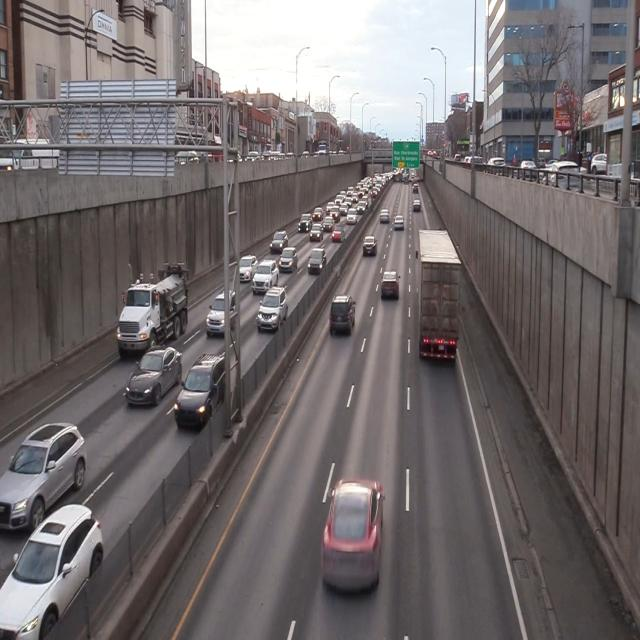Car: (0, 501, 105, 640), (0, 417, 92, 535), (320, 477, 392, 596), (413, 210, 463, 374), (117, 260, 194, 358), (174, 350, 231, 436), (125, 343, 182, 418), (205, 282, 240, 338), (255, 282, 290, 331), (329, 291, 358, 343), (380, 266, 403, 307)
